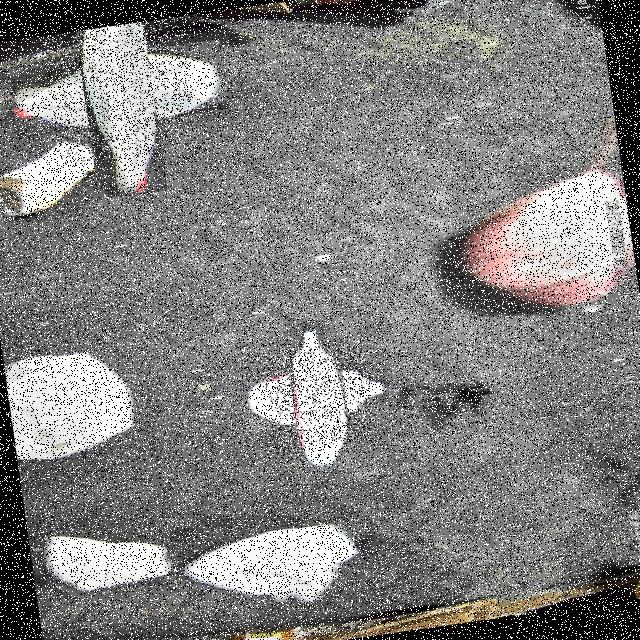milk-jug: (39, 17, 198, 169), (260, 338, 376, 454)
